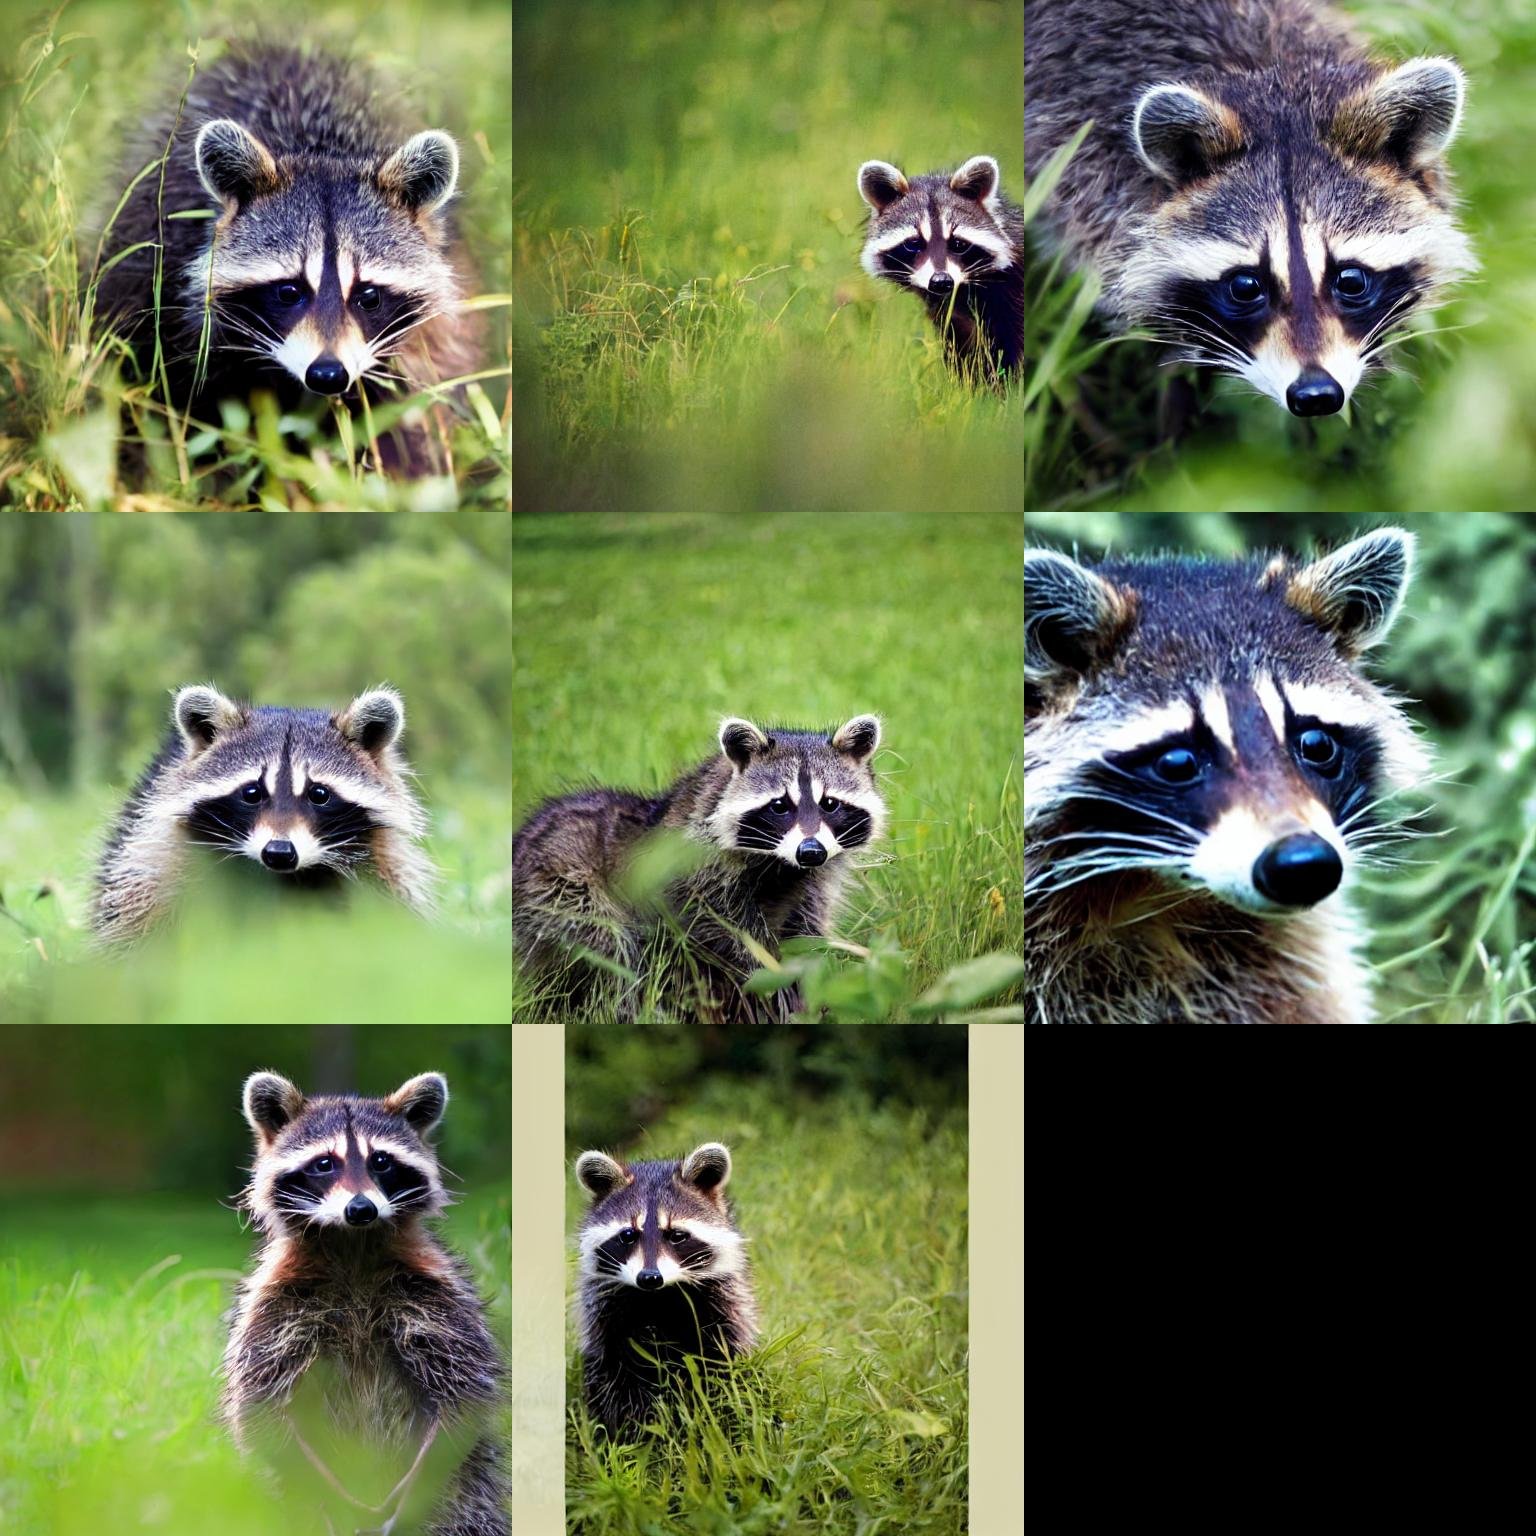raccoon: (1025, 0, 1499, 463), (1025, 518, 1438, 1020), (75, 28, 475, 418), (215, 1065, 511, 1536), (512, 702, 900, 1023), (75, 678, 450, 985), (567, 1139, 769, 1454), (840, 145, 1020, 390)
